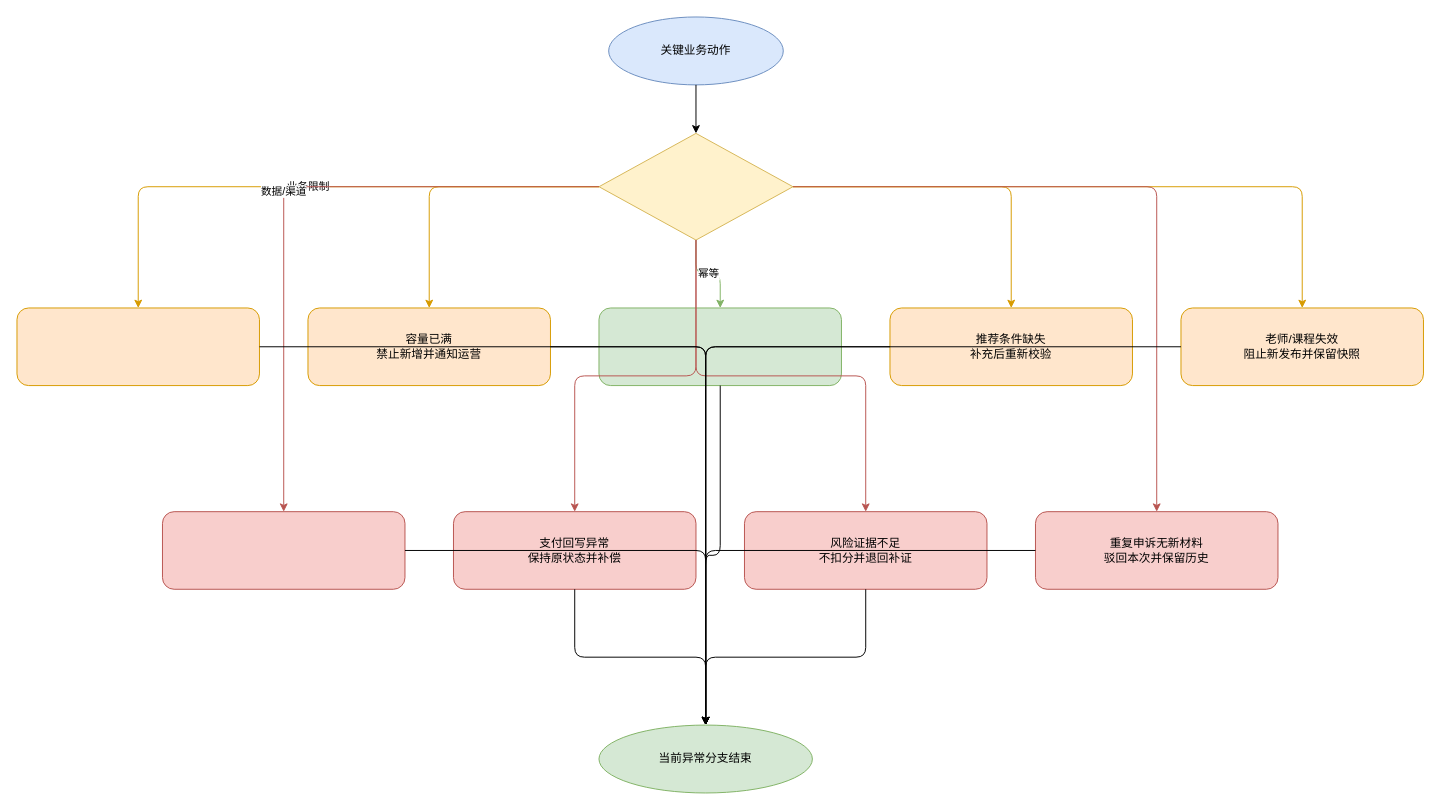
This 1440x810 diagram has some shape labels left out. The shapes that lost their labels are listed below. From the top down, each one's box as (x1, y1, x2, y2) in pixels, then its label:
(598, 132, 793, 240): 异常类型？
(16, 307, 259, 386): 无有效顾问/已限制 隐藏入口或指定代接
(598, 307, 841, 386): 重复会话/服务单 返回既有记录
(162, 511, 405, 589): 渠道留痕同步失败 标记缺口并重试
